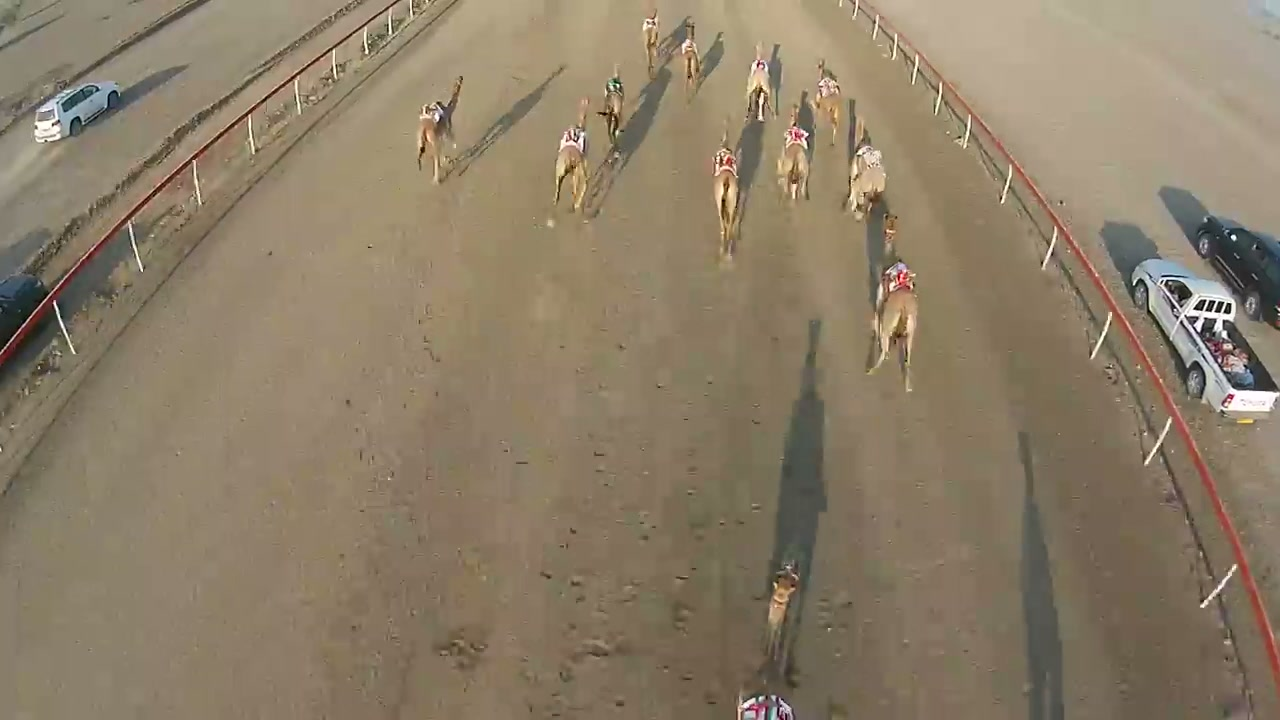animal_footprint: (480, 302, 829, 719)
